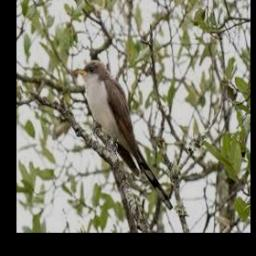Cuckoo: (77, 59, 174, 212)
